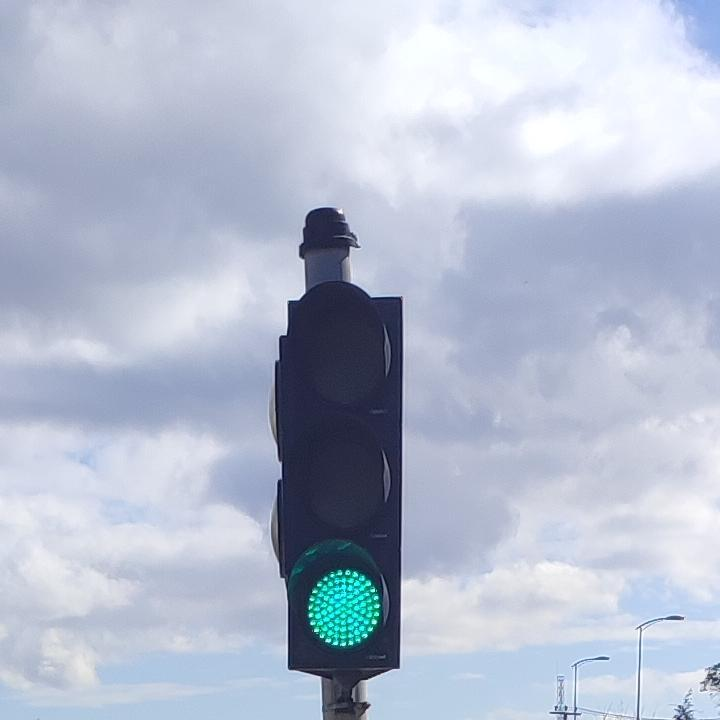green: (273, 236, 408, 709)
